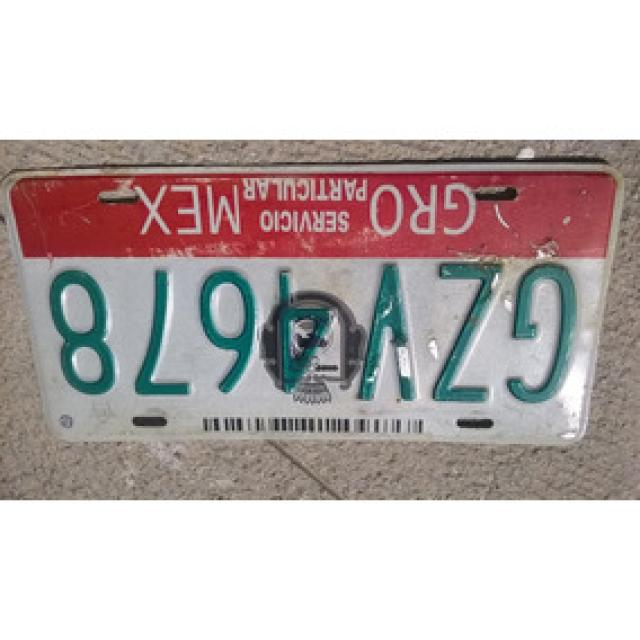placa: (21, 255, 594, 414)
